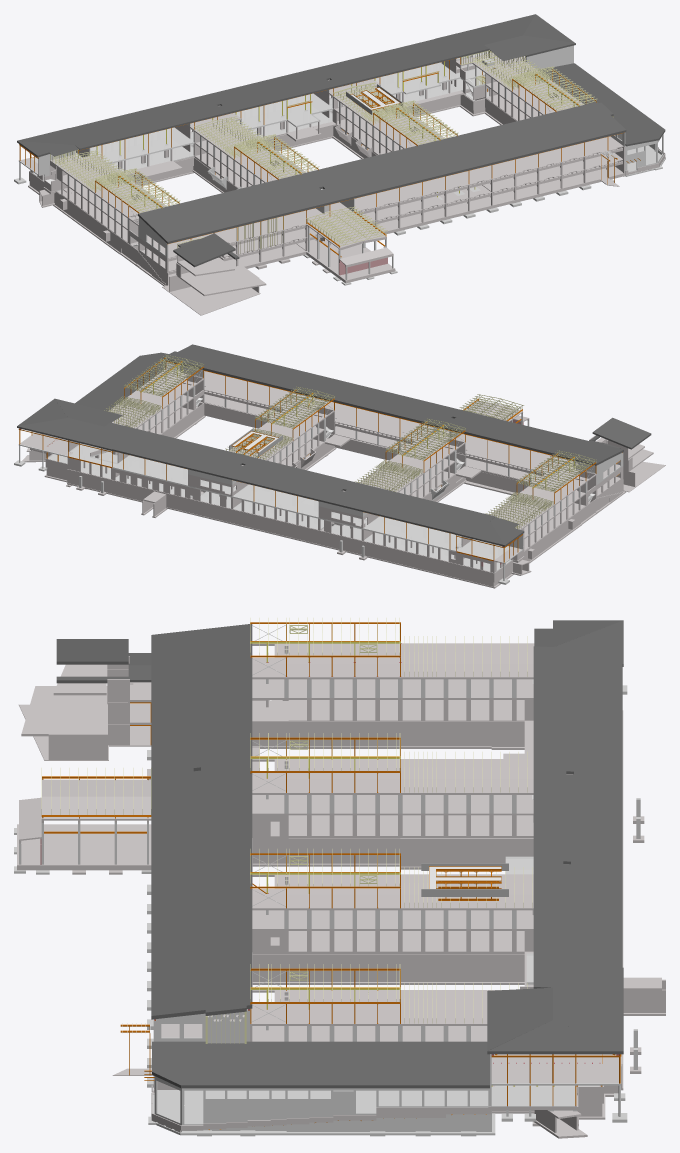
3 renders of one model, top to bottom at view 1: azimuth 30°, elevation 25°; view 2: azimuth 150°, elevation 25°; view 3: azimuth 270°, elevation 25°, orthographic. The views are drawn at different scales.
Parts seen in each view (by area): view 1: 27T5VL0xv60BGXS5Jopio7, 2PztwhsKT1JxGvTLKCnriH, 2dR8M0IiDA4RvK2T5fuTcR, 3Mry9sAhL6VPaev$nxbRLy, 2dR8M0IiDA4RvK2T5fuYKz, 1JRl59L7LDWwYLrcIqdQZh, 1tADNyM3TD_8gERH3BeyWM, 0QjccDnRvE_g0YSjn3VmKa, 2RSbbTVuXCIO8QuLgBk7oj, 1fMwygf2v3YRJQSME_3wQx, 39AnbV1$D7fOdIjUvIA_O9, 3jlIUCoGH7gv8Xgup3QNsV (+25 smaller); view 2: 2PztwhsKT1JxGvTLKCnriH, 27T5VL0xv60BGXS5Jopio7, 3Mry9sAhL6VPaev$nxbRLy, 2dR8M0IiDA4RvK2T5fuTcR, 0paLRBmVH3E8dD4nqoQq3d, 1fMwygf2v3YRJQSME_3wQx, 1tADNyM3TD_8gERH3BeyWM, 2RSbbTVuXCIO8QuLgBk7oj, 3jlIUCoGH7gv8Xgup3QNsV, 2dR8M0IiDA4RvK2T5fuYKz, 1JRl59L7LDWwYLrcIqdQZh, 1T0qOiJBj5COSTjenMIySK (+25 smaller); view 3: 27T5VL0xv60BGXS5Jopio7, 2PztwhsKT1JxGvTLKCnriH, 1JRl59L7LDWwYLrcIqdQZh, 1tADNyM3TD_8gERH3BeyWM, 2RSbbTVuXCIO8QuLgBk7oj, 39AnbV1$D7fOdIjUvIA_O9, 3jlIUCoGH7gv8Xgup3QNsV, 20FdScTnz21Q$lIGFzfA9M, 2UdrPwDnb1ne7TomqKcvfG, 0gRbPjkdPEseIR6csuu7pu, 2UdrPwDnb1ne7TomqKcvew, 1xDzNRRxL7Z85RqssaDgFW (+36 smaller).
Boxes of the visible parts, left/top/right/bottom form: 27T5VL0xv60BGXS5Jopio7: left=138, top=102, right=626, bottom=243; 2PztwhsKT1JxGvTLKCnriH: left=18, top=14, right=535, bottom=150; 2dR8M0IiDA4RvK2T5fuTcR: left=142, top=136, right=624, bottom=258; 3Mry9sAhL6VPaev$nxbRLy: left=31, top=51, right=491, bottom=172; 2dR8M0IiDA4RvK2T5fuYKz: left=139, top=152, right=624, bottom=271; 1JRl59L7LDWwYLrcIqdQZh: left=538, top=63, right=665, bottom=146; 1tADNyM3TD_8gERH3BeyWM: left=50, top=154, right=167, bottom=226; 0QjccDnRvE_g0YSjn3VmKa: left=372, top=166, right=622, bottom=231; 2RSbbTVuXCIO8QuLgBk7oj: left=194, top=120, right=306, bottom=182; 1fMwygf2v3YRJQSME_3wQx: left=30, top=64, right=489, bottom=191; 39AnbV1$D7fOdIjUvIA_O9: left=333, top=86, right=444, bottom=148; 3jlIUCoGH7gv8Xgup3QNsV: left=485, top=62, right=584, bottom=114; 2PztwhsKT1JxGvTLKCnriH: left=17, top=418, right=504, bottom=546; 27T5VL0xv60BGXS5Jopio7: left=163, top=344, right=623, bottom=465; 3Mry9sAhL6VPaev$nxbRLy: left=68, top=443, right=511, bottom=559; 2dR8M0IiDA4RvK2T5fuTcR: left=179, top=371, right=620, bottom=484; 0paLRBmVH3E8dD4nqoQq3d: left=66, top=469, right=493, bottom=582; 1fMwygf2v3YRJQSME_3wQx: left=47, top=451, right=511, bottom=572; 1tADNyM3TD_8gERH3BeyWM: left=490, top=465, right=596, bottom=529; 2RSbbTVuXCIO8QuLgBk7oj: left=360, top=433, right=465, bottom=492; 3jlIUCoGH7gv8Xgup3QNsV: left=108, top=369, right=204, bottom=427; 2dR8M0IiDA4RvK2T5fuYKz: left=204, top=390, right=623, bottom=497; 1JRl59L7LDWwYLrcIqdQZh: left=75, top=352, right=168, bottom=410; 1T0qOiJBj5COSTjenMIySK: left=67, top=478, right=492, bottom=586; 27T5VL0xv60BGXS5Jopio7: left=151, top=624, right=252, bottom=1019; 2PztwhsKT1JxGvTLKCnriH: left=533, top=620, right=623, bottom=1051; 1JRl59L7LDWwYLrcIqdQZh: left=152, top=1041, right=489, bottom=1088; 1tADNyM3TD_8gERH3BeyWM: left=252, top=643, right=534, bottom=679; 2RSbbTVuXCIO8QuLgBk7oj: left=252, top=759, right=533, bottom=794; 39AnbV1$D7fOdIjUvIA_O9: left=252, top=874, right=533, bottom=910; 3jlIUCoGH7gv8Xgup3QNsV: left=250, top=990, right=491, bottom=1025; 20FdScTnz21Q$lIGFzfA9M: left=180, top=1088, right=489, bottom=1131; 2UdrPwDnb1ne7TomqKcvfG: left=252, top=795, right=533, bottom=815; 0gRbPjkdPEseIR6csuu7pu: left=252, top=679, right=533, bottom=699; 2UdrPwDnb1ne7TomqKcvew: left=252, top=910, right=533, bottom=930; 1xDzNRRxL7Z85RqssaDgFW: left=288, top=815, right=533, bottom=837.
Size of the model in its own units: 137 by 15.58 by 85.89.
